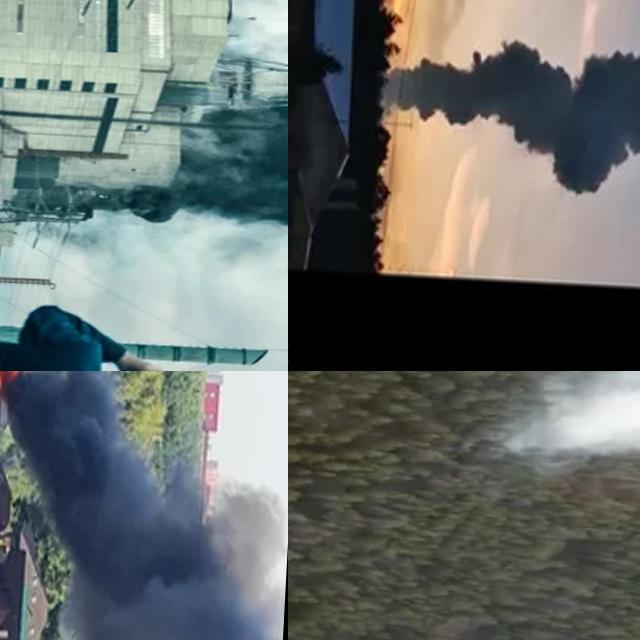smoke: (0, 371, 288, 640), (378, 32, 640, 200), (169, 96, 288, 238)
